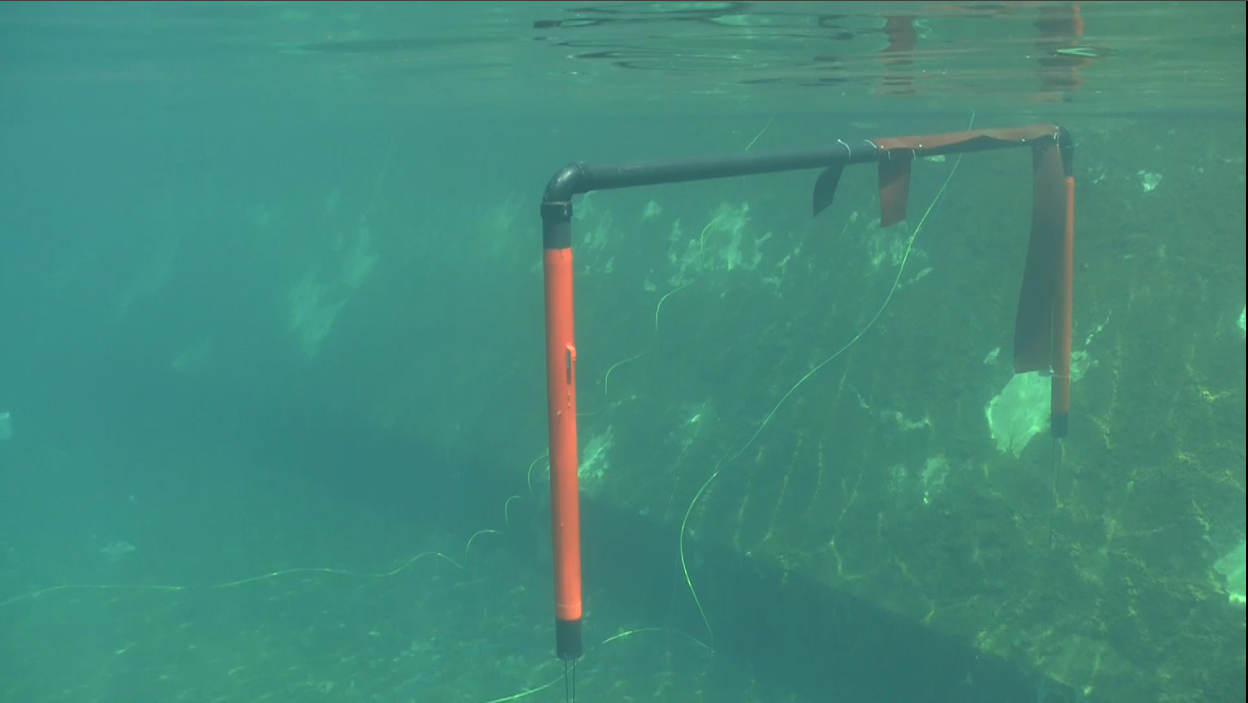gate: (534, 110, 1093, 659)
